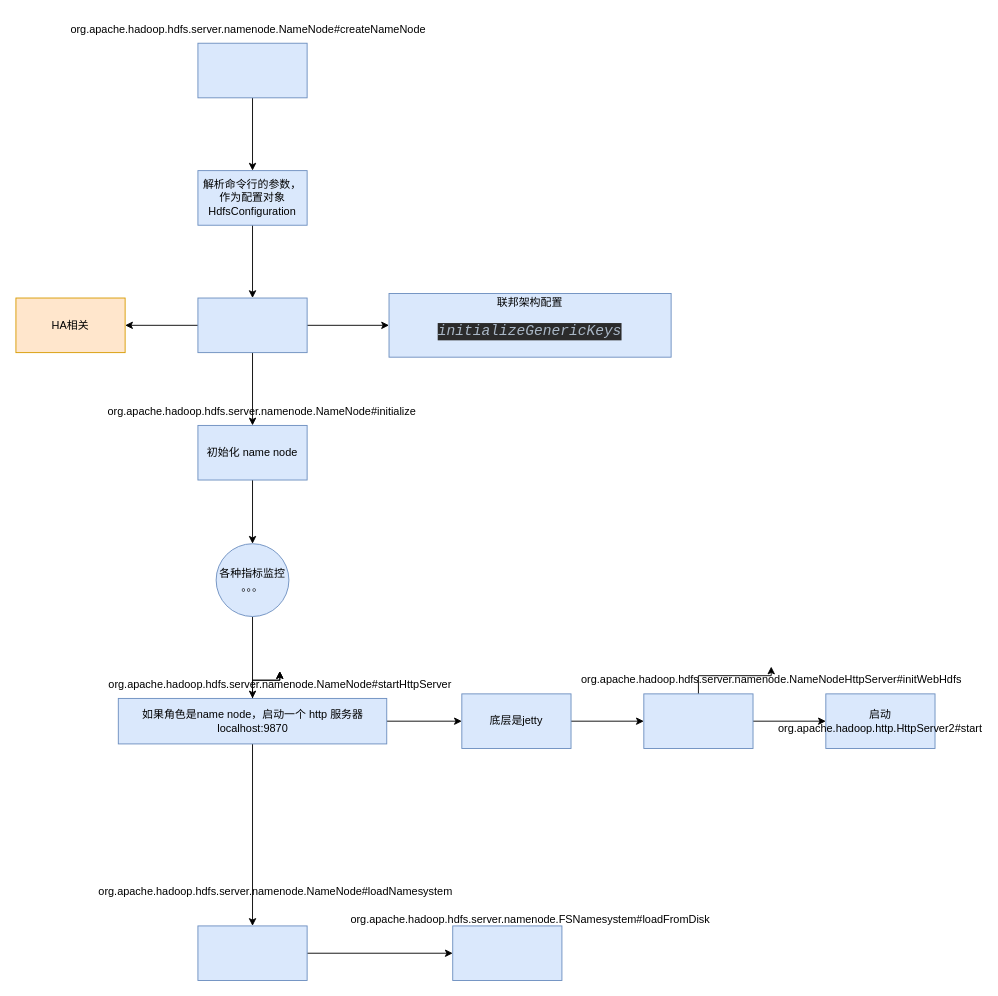
Image size: 998x996. Some labels were removed from this diagram. The shapes that lost their labels are listed below. From the top down, each one's box as (x1, y1, x2, y2) in pixels, then its label:
(197, 42, 307, 98): 启动NameNode节点
(197, 297, 307, 353): 创建NameNode
(643, 693, 753, 748): 添加 servlet 用于处理网络请求
(197, 925, 307, 981): 从磁盘上加载文件
